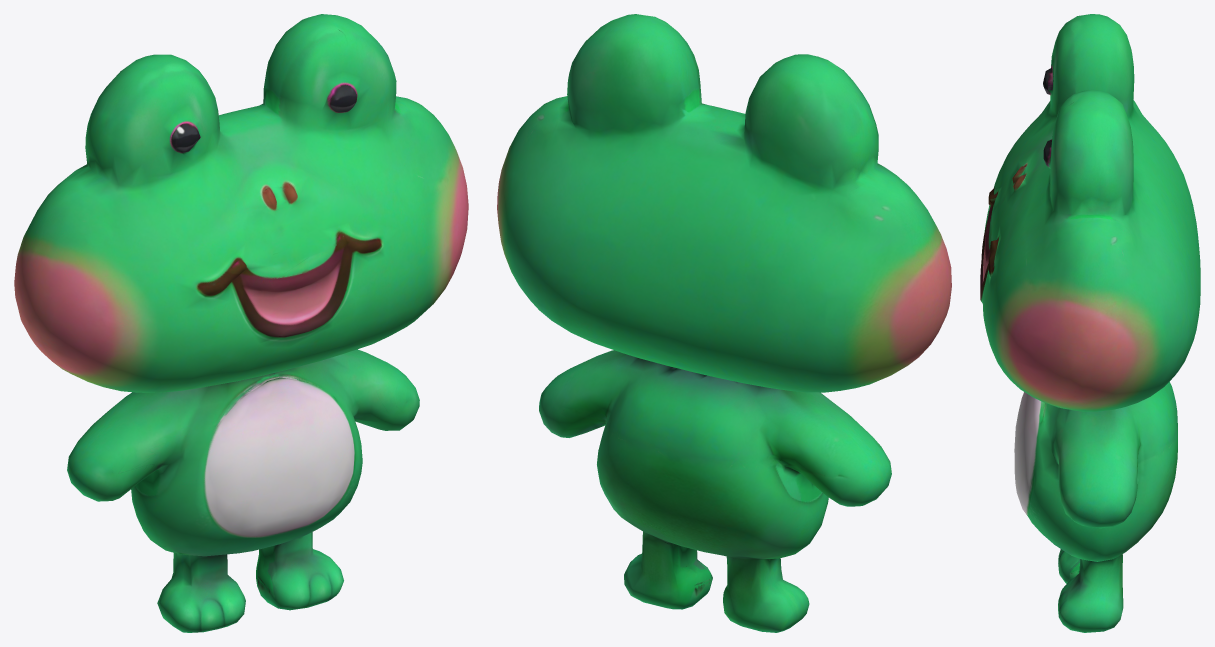
File: frog_texture.glb
3 views of the same model, side by side, from view 1: azimuth 30°, elevation 25°; view 2: azimuth 150°, elevation 25°; view 3: azimuth 270°, elevation 25° (orthographic). The views are drawn at different scales.
Size of the model in its own units: 1.59 by 2 by 0.7396.
Materials: 1 (1 with a texture image).
